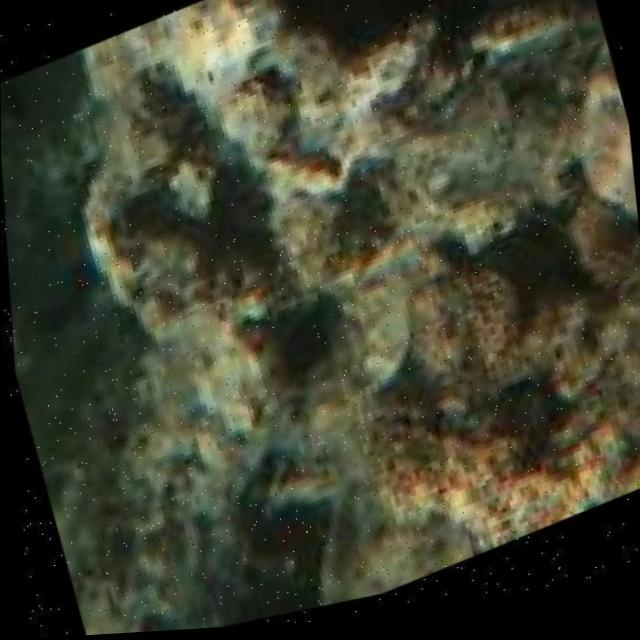Dead Coral: (81, 62, 385, 365), (361, 265, 640, 525)
